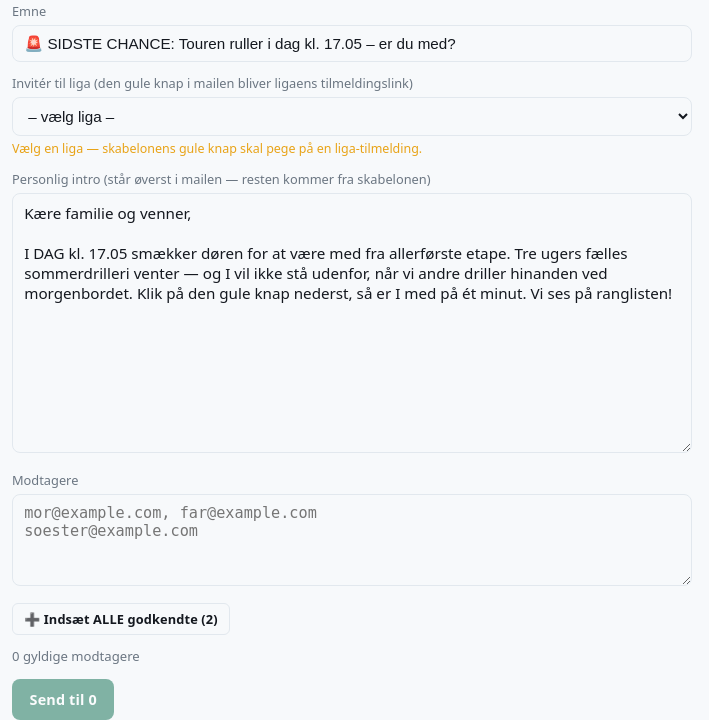
Test: BroadcastTab › indsætter kun godkendte spilleres mails (med adresse)
(page scrolled)
Click the button with test id "broadcast-add-approved": (121, 619) [12,603,230,635]
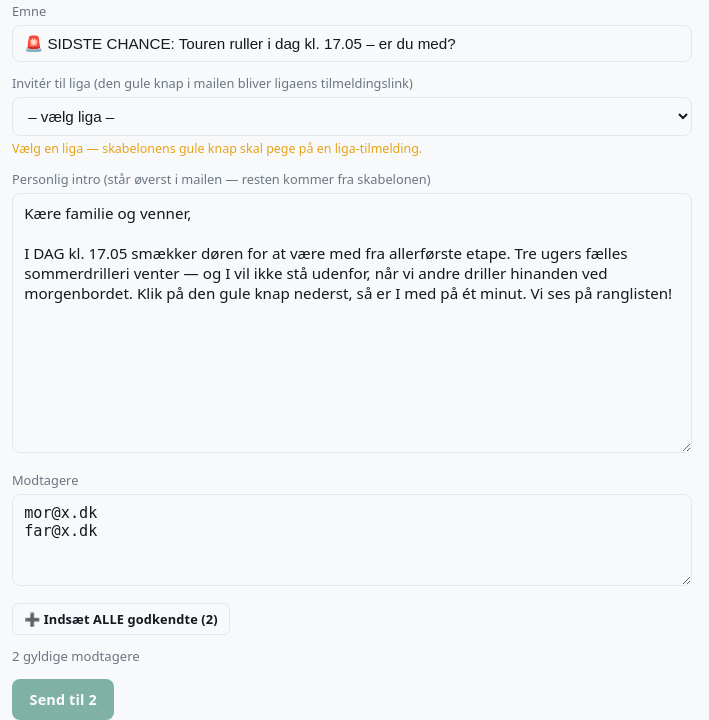
expect the text with test id "broadcast-count" shows "2 gyldige": met, box [12,647,140,665]
